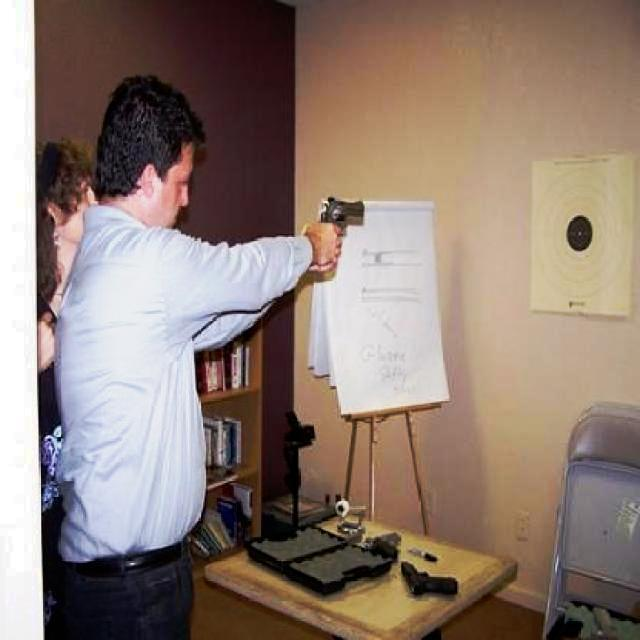Gun: (301, 192, 373, 259)
